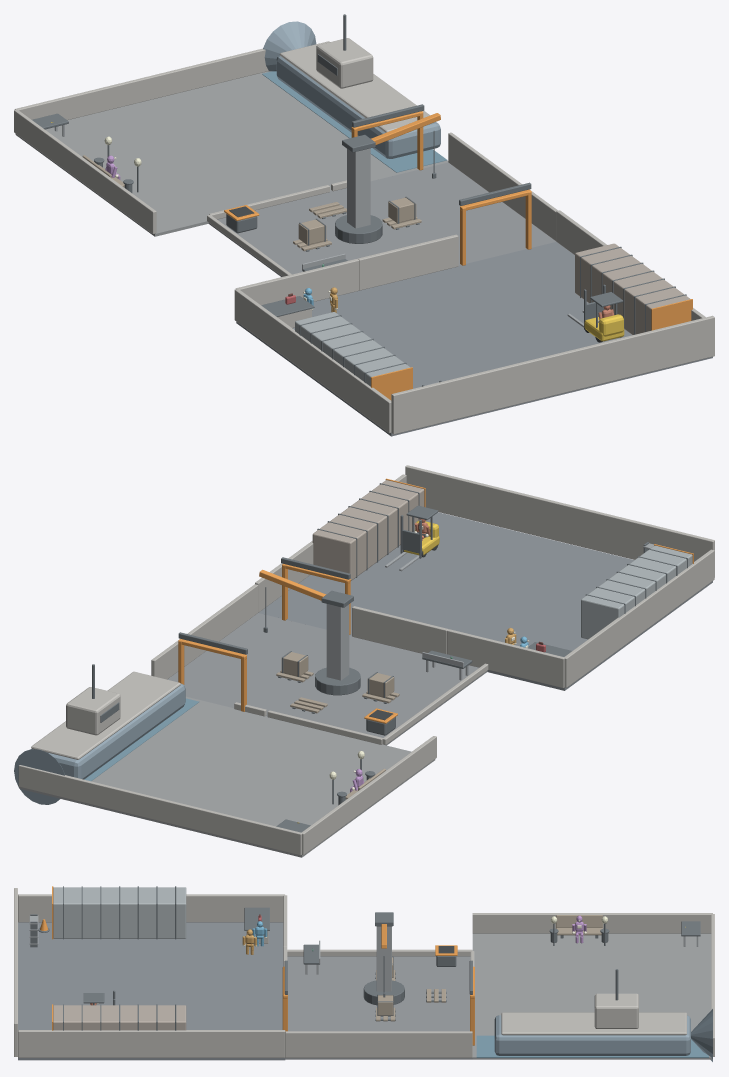
3 renders of one model, top to bottom at view 1: azimuth 30°, elevation 25°; view 2: azimuth 150°, elevation 25°; view 3: azimuth 270°, elevation 25°, orthographic. The views are drawn at different scales.
Parts seen in each view (by area): view 1: Quay floor, Container lot floor, Crane base floor, Entrance wall, Quay far boundary, West boundary, Right boundary container body, Quay west boundary, Left boundary container body, Ship hull, Far wall center, Ship deck (+12 smaller); view 2: Container lot floor, Quay floor, Crane base floor, Entrance wall, Quay far boundary, Right boundary container body, West boundary, Left boundary container body, Ship deck, Far wall west, Quay west boundary, Ship hull (+10 smaller); view 3: Container lot floor, Quay floor, Crane base floor, East boundary, Left boundary container body, Crane base east boundary, Ship hull, Quay west boundary, Ship deck, West boundary, Right boundary container body, Ship cabin (+12 smaller).
Boxes of the visible parts, left/top/right/bottom form: Quay floor: left=15, top=71, right=448, bottom=236; Container lot floor: left=236, top=242, right=712, bottom=436; Crane base floor: left=208, top=162, right=556, bottom=276; Entrance wall: left=391, top=315, right=714, bottom=434; Quay far boundary: left=14, top=48, right=268, bottom=120; West boundary: left=234, top=289, right=391, bottom=433; Right boundary container body: left=575, top=243, right=690, bottom=334; Quay west boundary: left=14, top=109, right=156, bottom=233; Left boundary container body: left=295, top=312, right=410, bottom=386; Ship hull: left=276, top=55, right=440, bottom=158; Far wall center: left=358, top=234, right=458, bottom=290; Ship deck: left=279, top=41, right=430, bottom=132; Container lot floor: left=258, top=512, right=712, bottom=690; Quay floor: left=19, top=696, right=435, bottom=857; Crane base floor: left=167, top=613, right=487, bottom=745; Entrance wall: left=405, top=465, right=714, bottom=577; Quay far boundary: left=18, top=765, right=301, bottom=855; Right boundary container body: left=312, top=480, right=424, bottom=580; West boundary: left=564, top=549, right=714, bottom=687; Left boundary container body: left=581, top=545, right=692, bottom=639; Ship deck: left=31, top=671, right=180, bottom=759; Far wall west: left=447, top=629, right=564, bottom=688; Quay west boundary: left=301, top=736, right=436, bottom=854; Ship hull: left=30, top=683, right=185, bottom=779; Container lot floor: left=18, top=922, right=285, bottom=1060; Quay floor: left=472, top=933, right=712, bottom=1059; Crane base floor: left=285, top=956, right=472, bottom=1059; East boundary: left=18, top=1030, right=285, bottom=1057; Left boundary container body: left=53, top=887, right=186, bottom=938; Crane base east boundary: left=285, top=1031, right=472, bottom=1057; Ship hull: left=494, top=1015, right=690, bottom=1055; Quay west boundary: left=472, top=913, right=712, bottom=933; Ship deck: left=501, top=1012, right=686, bottom=1035; West boundary: left=18, top=894, right=284, bottom=922; Right boundary container body: left=53, top=1005, right=186, bottom=1030; Ship cabin: left=594, top=993, right=638, bottom=1028.
Bounding box in the file's own units: 24.6 × 8.18 × 52.44.
